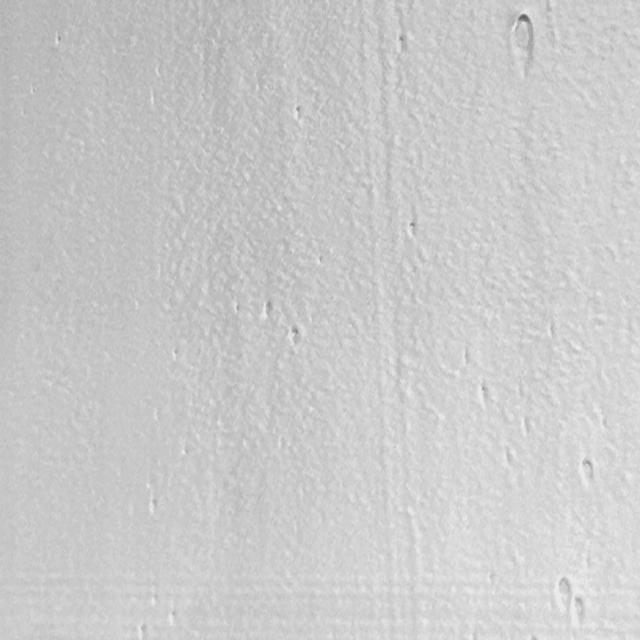pin holes: (506, 8, 541, 82), (552, 575, 573, 609), (578, 456, 600, 488), (570, 596, 592, 628), (142, 494, 163, 520), (284, 322, 304, 348), (258, 299, 278, 325), (474, 381, 491, 406), (392, 34, 409, 58), (288, 102, 306, 124), (134, 621, 149, 640), (50, 33, 64, 51), (165, 610, 179, 628), (404, 221, 417, 239)
